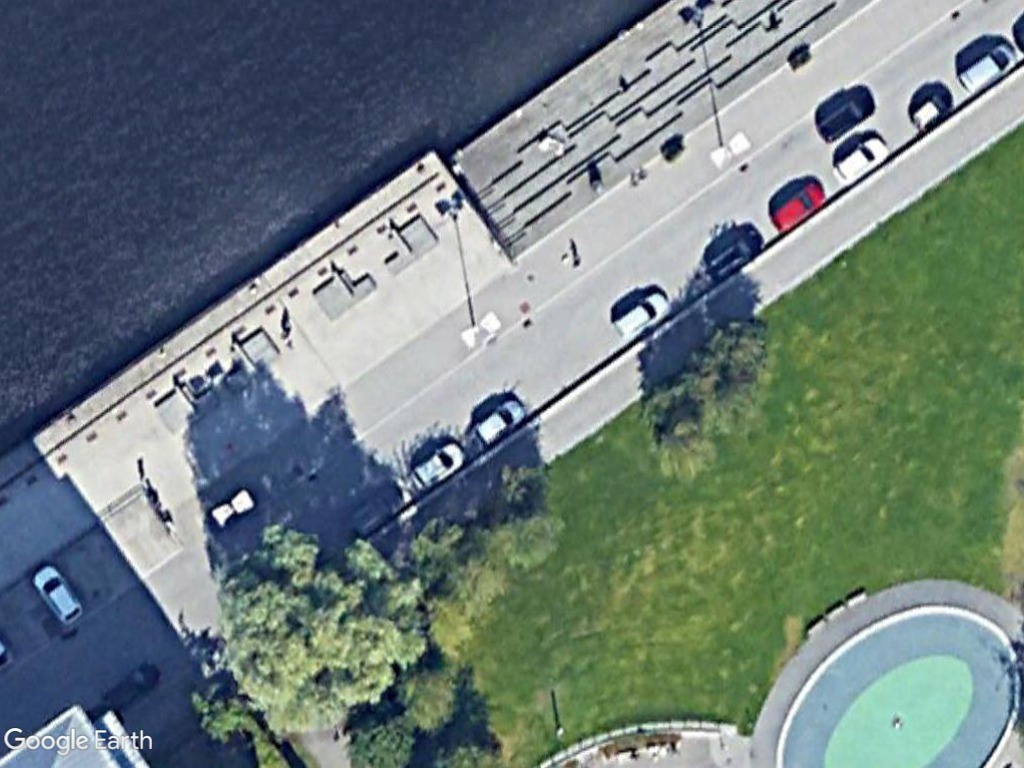car: (699, 220, 770, 286), (605, 280, 674, 345), (25, 560, 87, 631), (765, 173, 831, 239), (956, 37, 1024, 100), (810, 85, 879, 147), (827, 128, 892, 193), (408, 438, 473, 495), (470, 392, 529, 452)
